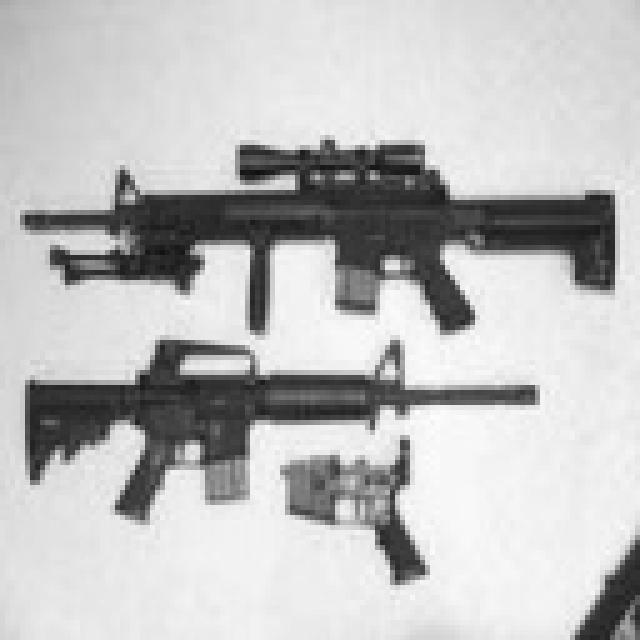Rifle: (0, 92, 640, 357), (0, 293, 599, 546), (255, 416, 494, 612)
